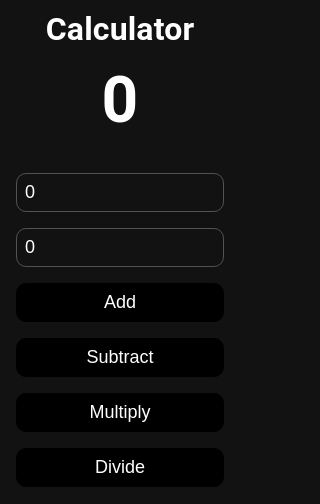
Test: Calculator › subtracts numbers
// check if adds properly
Replace the text in the number field with test id "num1" with "8". click: [120, 192]
box: [16, 173, 224, 212]
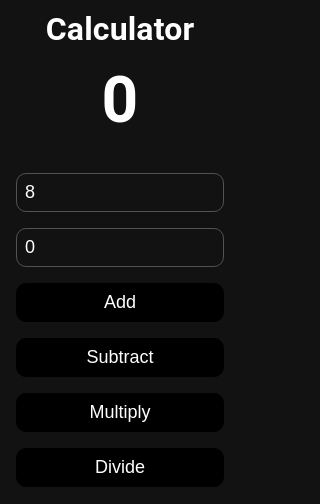
Replace the text in the number field with test id "num2" with "5". click: [120, 248]
box: [16, 228, 224, 267]
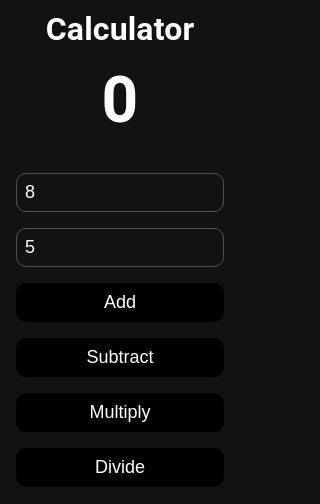
Click the button with test id "subtract". click: [120, 358]
box: [16, 338, 224, 377]
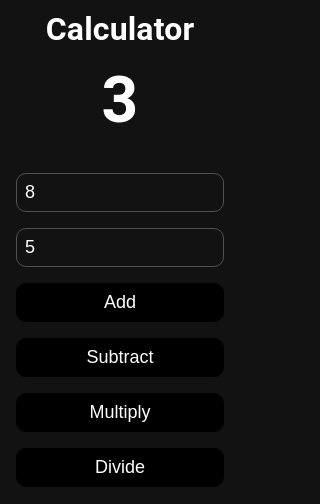
Expected: the text with test id "result" reads "3", [102, 63, 138, 138]
